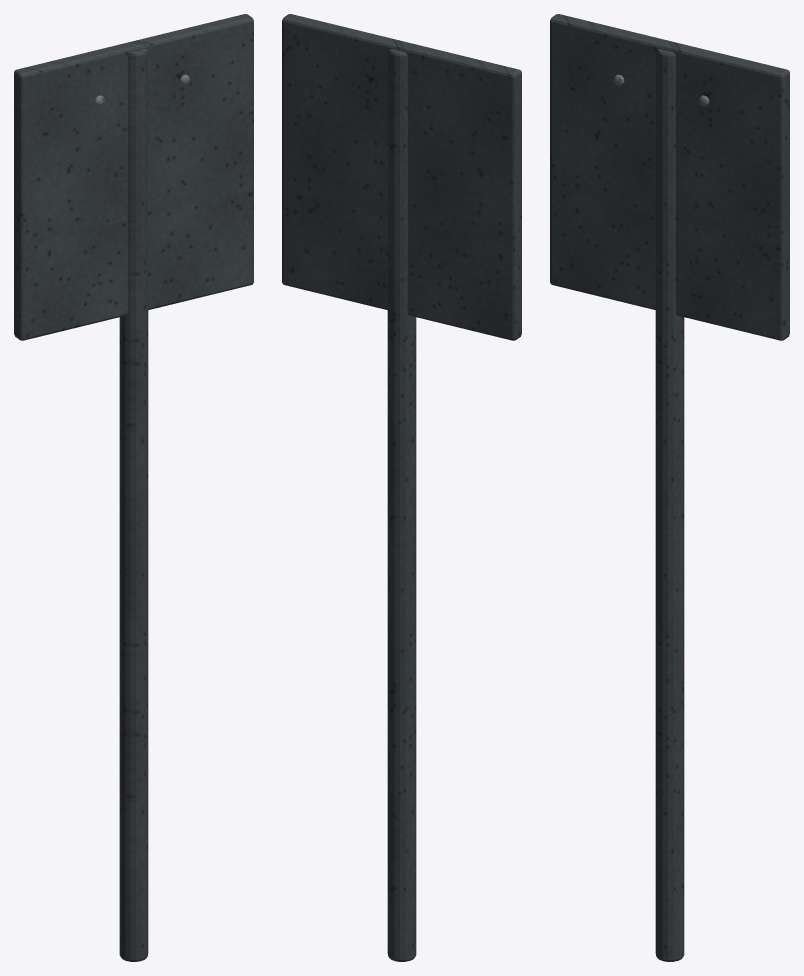
File: PROP-3079075B0F84_lod0.glb
3 views of the same model, side by side, from view 1: azimuth 30°, elevation 25°; view 2: azimuth 150°, elevation 25°; view 3: azimuth 330°, elevation 25° (orthographic).
Visible parts, largest first — view 1: sign_plate.008, sign_post.010; view 2: sign_plate.008, sign_post.010; view 3: sign_plate.008, sign_post.010.
Boxes of the visible parts, x1=… form: sign_plate.008: x1=14, y1=14, x2=253, y2=340; sign_post.010: x1=119, y1=49, x2=148, y2=961; sign_plate.008: x1=282, y1=14, x2=521, y2=340; sign_post.010: x1=387, y1=49, x2=416, y2=961; sign_plate.008: x1=550, y1=14, x2=789, y2=340; sign_post.010: x1=655, y1=49, x2=684, y2=961.
Size of the model in its own units: 0.66 by 2.46 by 0.083.
2 materials, 2 textured.
